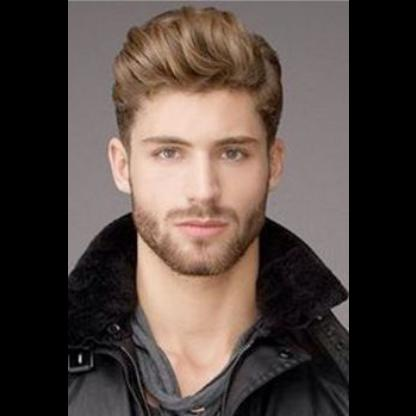Male: (108, 85, 284, 273)
